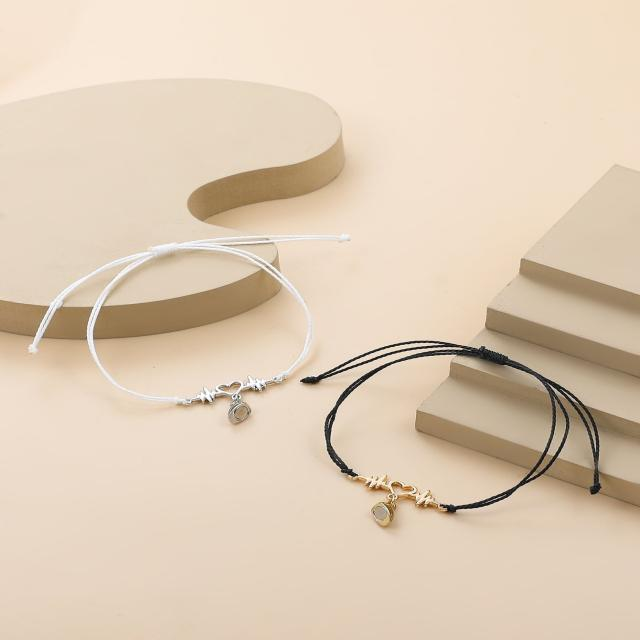bracelet: (303, 270, 640, 609), (32, 141, 307, 471)
